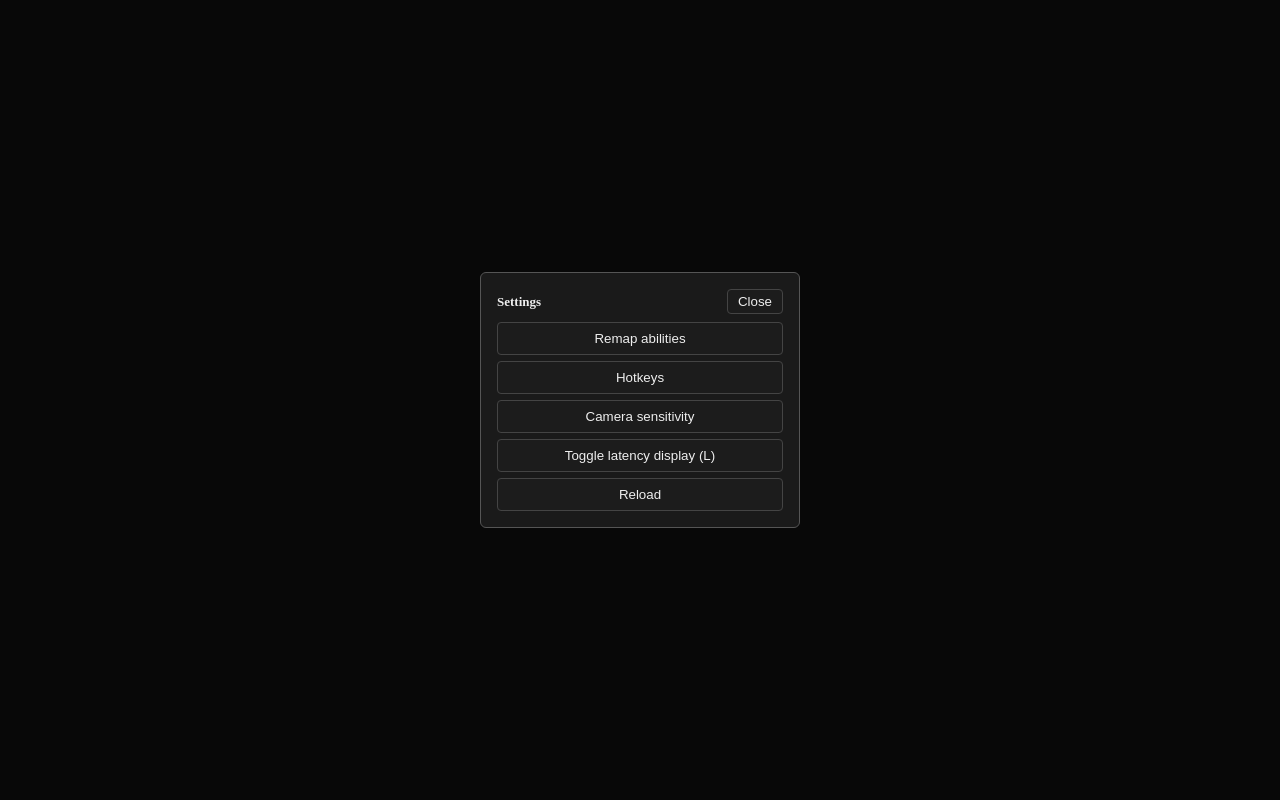
Scenario: SettingsDialog hotkeys pane › cancels a capture on Escape without changing anything
Step 1. Click the button "Hotkeys" → (640, 378), box [497,361,783,394]
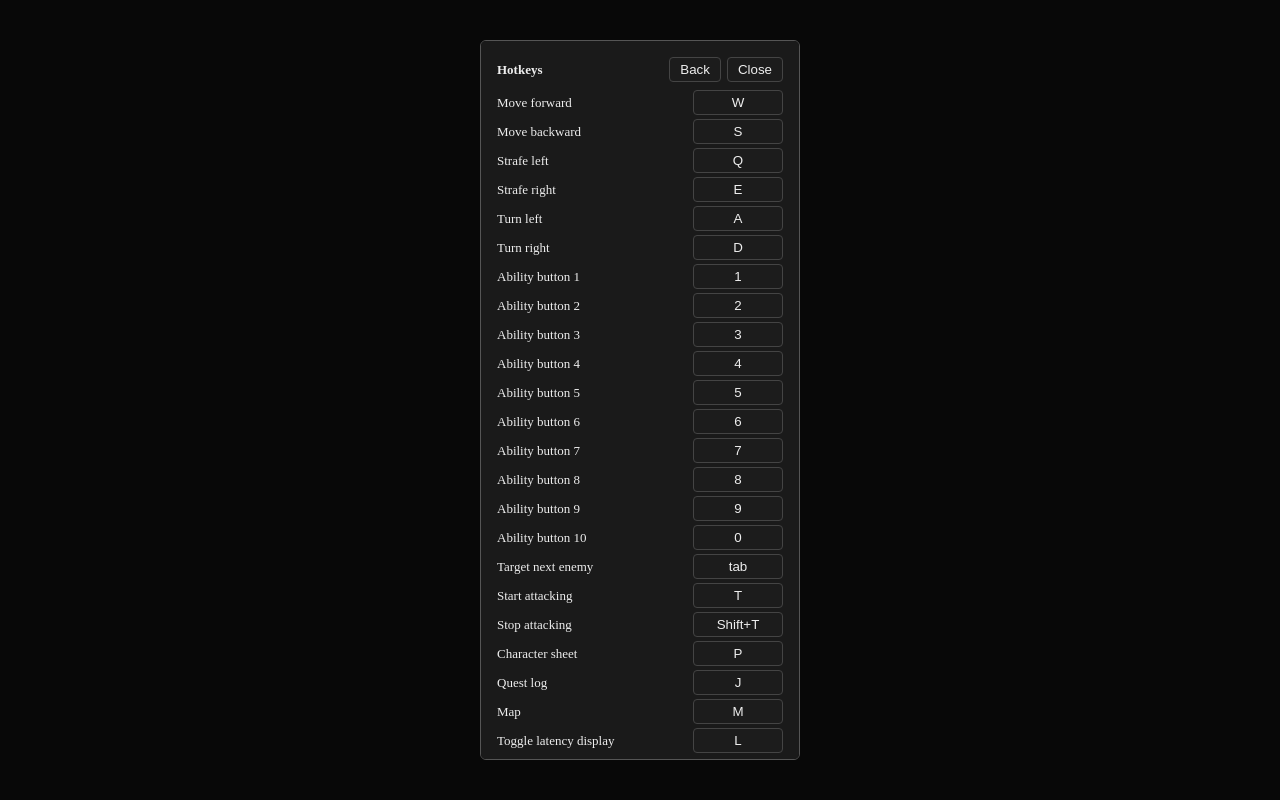
Step 2. Click the button named "Bind Move forward" → (738, 102), box [693,90,783,115]
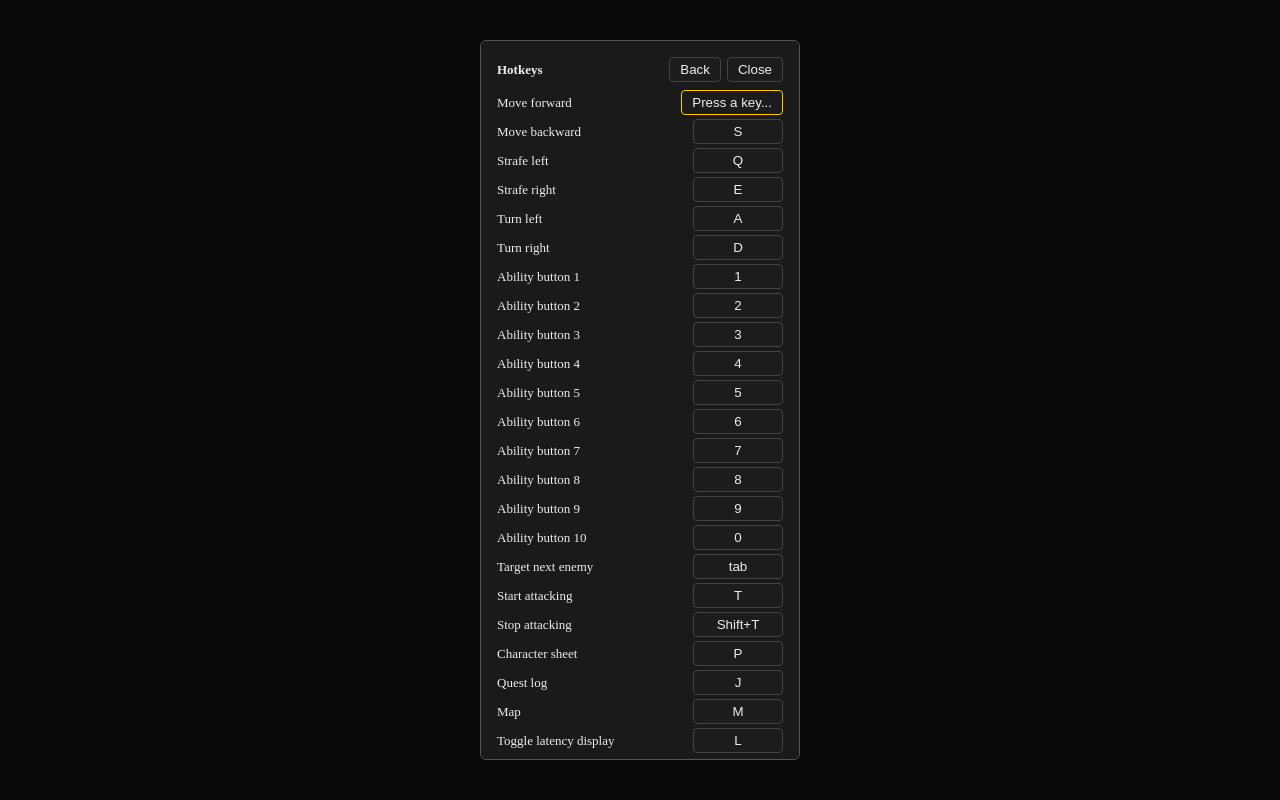
Step 3. Press Escape
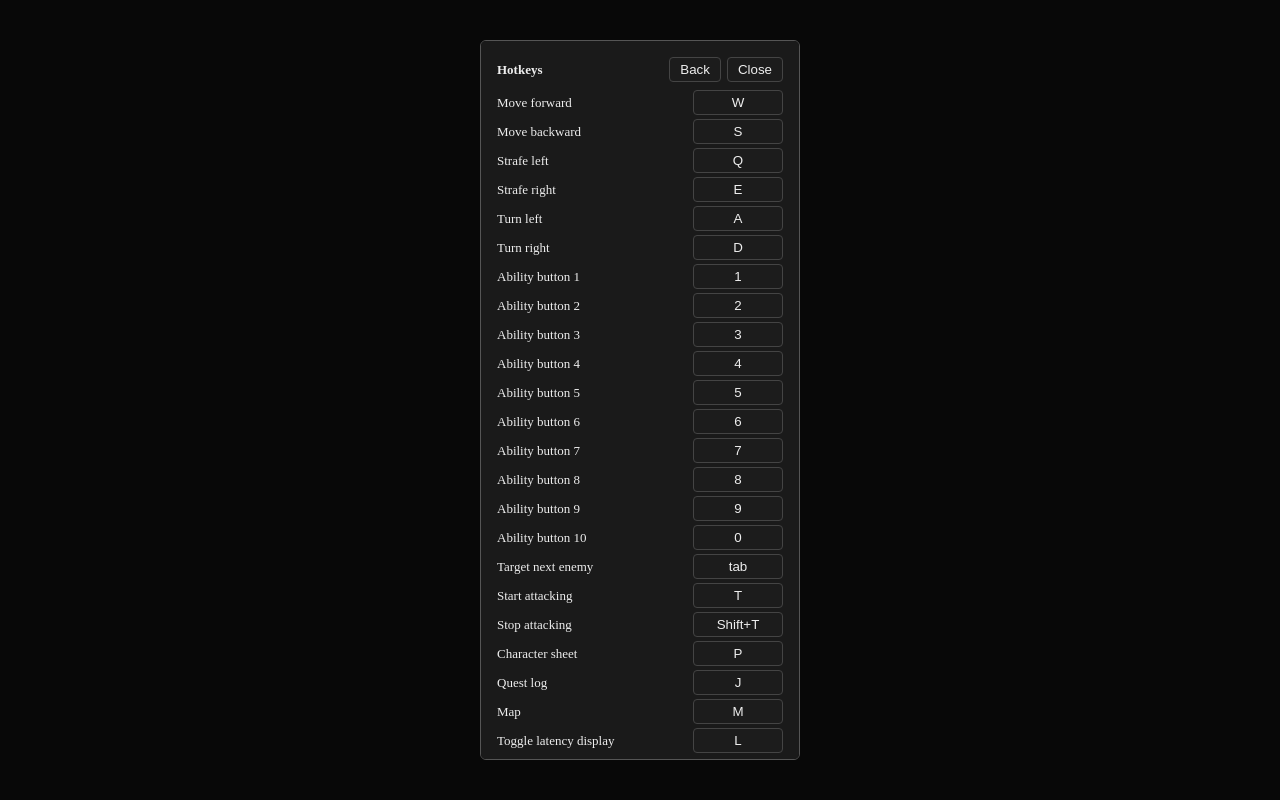
Expected: the button named "Bind Move forward" reads "W", [693,90,783,115]
